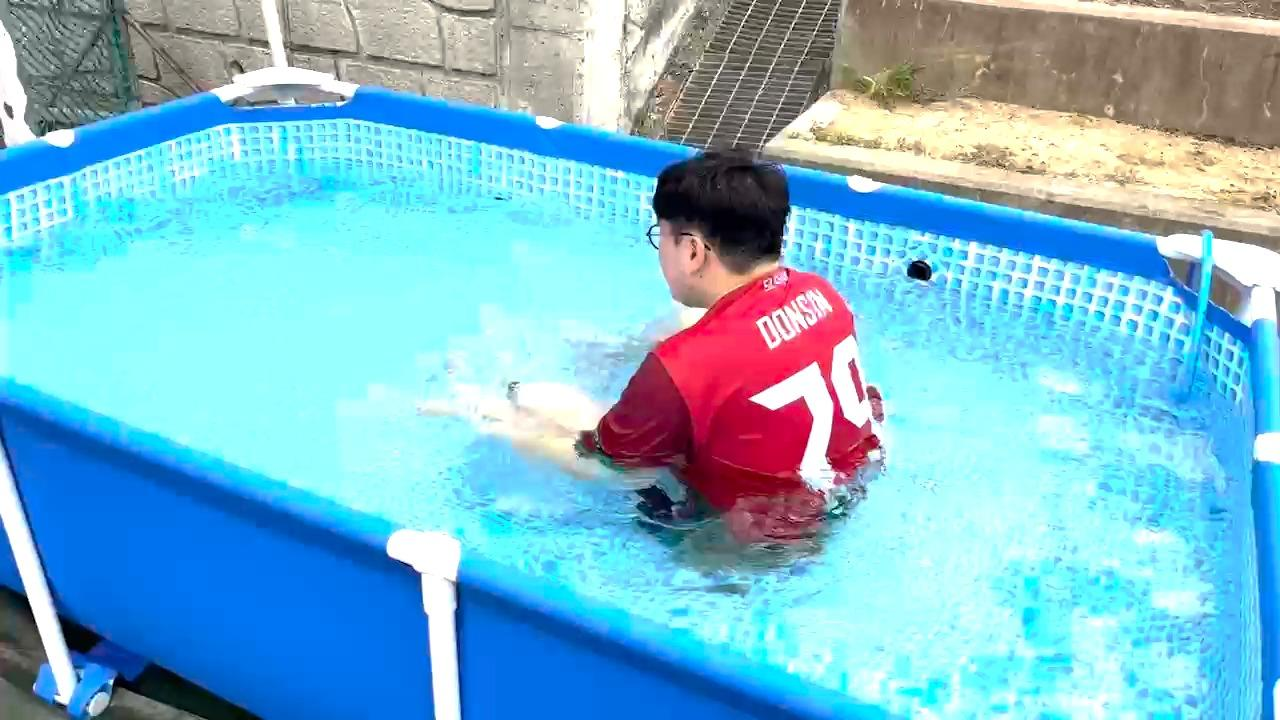Swimming: (376, 105, 918, 582)
